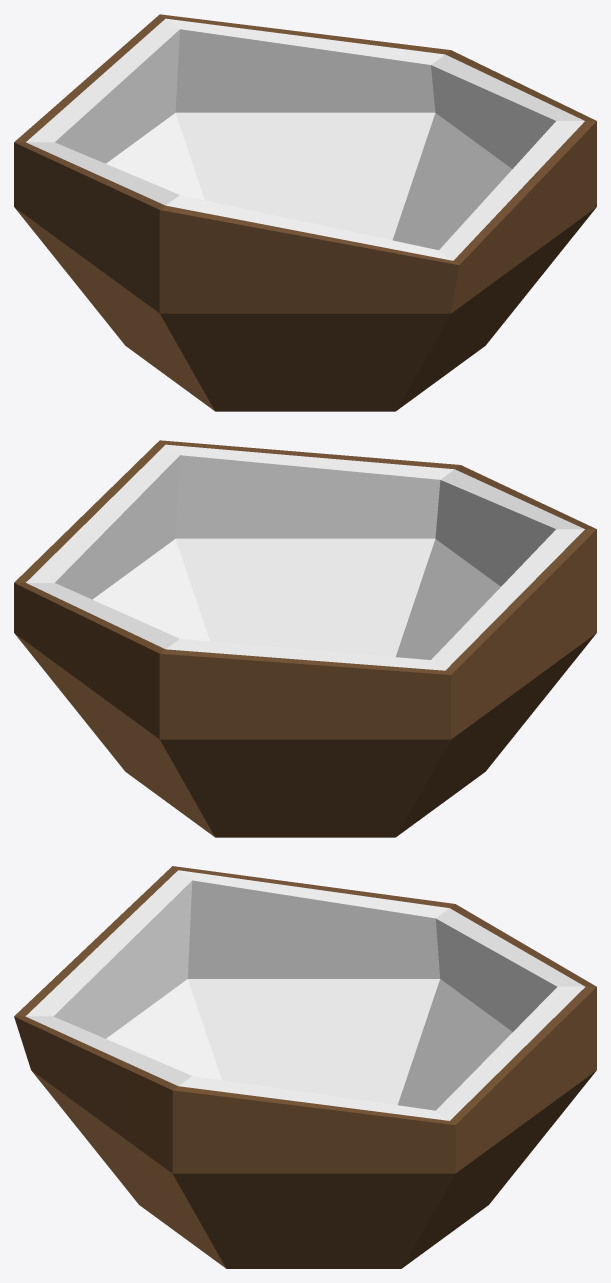
Rendered from Coco_02.glb.
3 renders of one model, top to bottom at view 1: azimuth 30°, elevation 25°; view 2: azimuth 150°, elevation 25°; view 3: azimuth 270°, elevation 25°, orthographic. The views are drawn at different scales.
Visible parts, largest first — view 1: Coco_02; view 2: Coco_02; view 3: Coco_02.
Boxes of the visible parts, x1,y1,x2,y2 form: Coco_02: (14, 14, 596, 411); Coco_02: (14, 440, 596, 837); Coco_02: (14, 866, 596, 1268).
Size of what is drawn, in the model's own units: 0.2829 by 0.1888 by 0.3365.
Materials: 1 (1 with a texture image).
